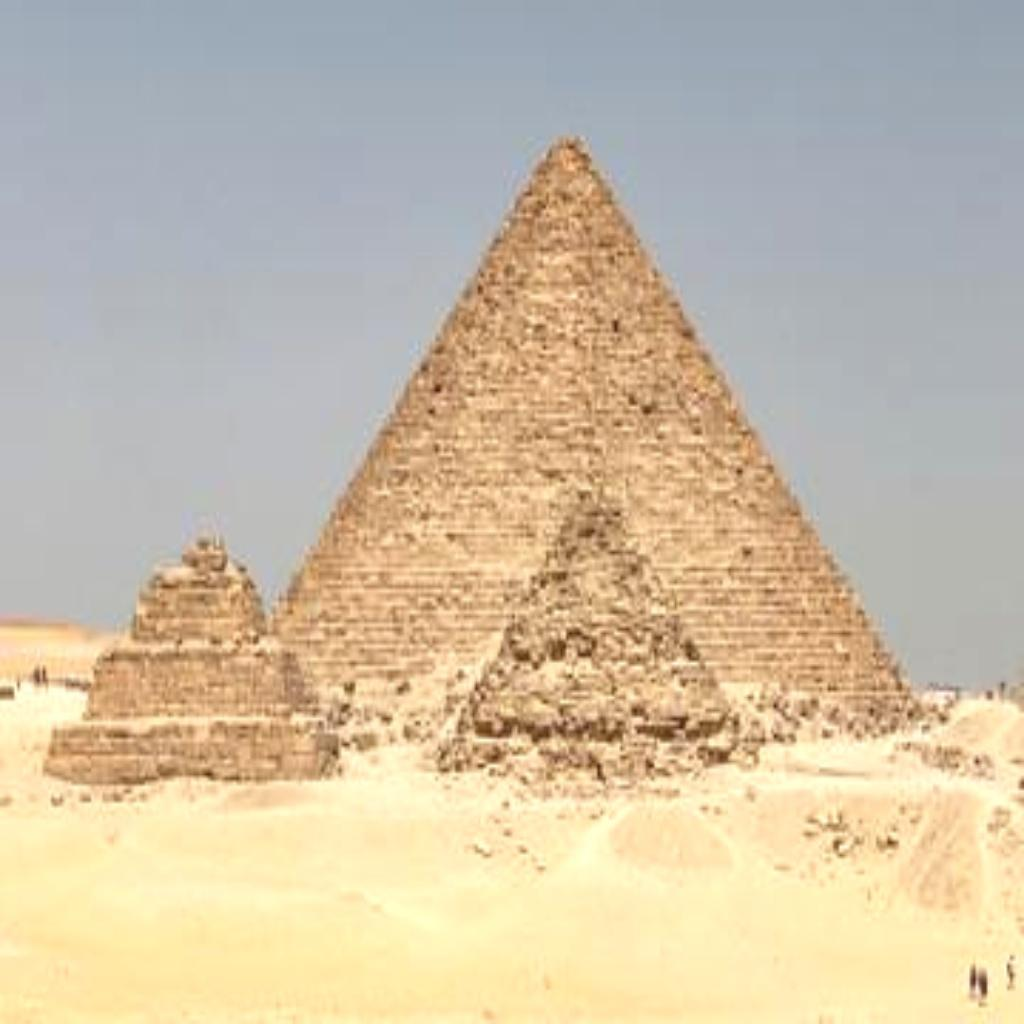Great Pyramids of Giza: (43, 128, 933, 794)
